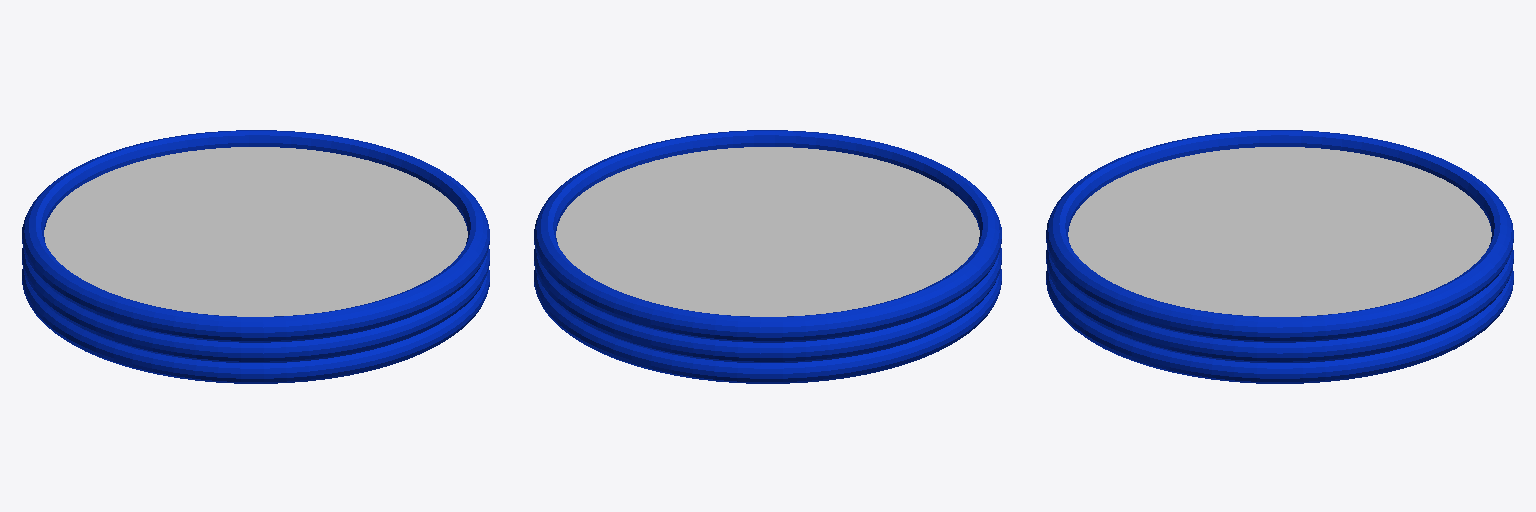
Rendered from DuckPond.obj.
3 views of the same model, side by side, from view 1: azimuth 30°, elevation 25°; view 2: azimuth 150°, elevation 25°; view 3: azimuth 270°, elevation 25° (orthographic).
Visible parts, largest first — view 1: Water_Cylinder.001, KiddiePool_Cylinder; view 2: Water_Cylinder.001, KiddiePool_Cylinder; view 3: Water_Cylinder.001, KiddiePool_Cylinder.
Boxes of the visible parts, box(x1,y1,x2,y2) form: Water_Cylinder.001: box(44, 147, 467, 316); KiddiePool_Cylinder: box(22, 130, 489, 383); Water_Cylinder.001: box(556, 147, 979, 316); KiddiePool_Cylinder: box(534, 130, 1001, 383); Water_Cylinder.001: box(1068, 147, 1491, 316); KiddiePool_Cylinder: box(1046, 130, 1513, 383).
Size of the model in its own units: 2.06 by 0.31 by 2.06.